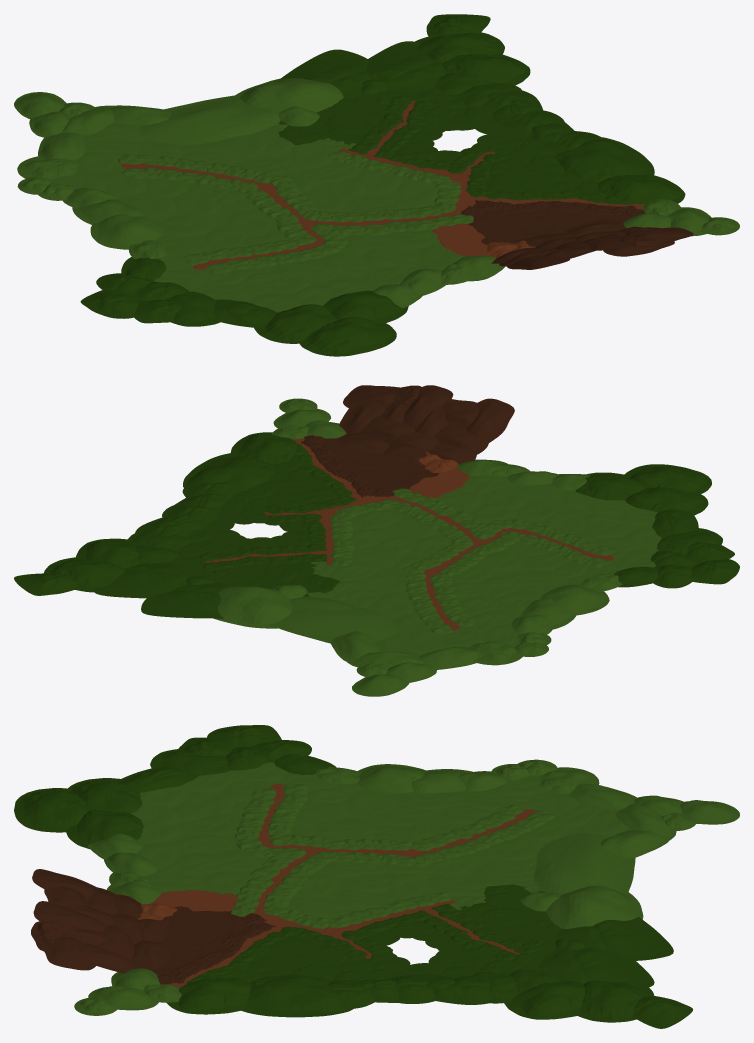
File: Ground.gltf
The picture shows the model from 3 angles, top to bottom: view 1: azimuth 30°, elevation 25°; view 2: azimuth 150°, elevation 25°; view 3: azimuth 270°, elevation 25°; orthographic projection. The views are drawn at different scales.
Visible parts, largest first — view 1: SM_GrassyLowHillB6, SM_DarkGrassyLowHillA9, SM_DarkGrassyLowHillB6, SM_DarkGrassyLowHillA3, SM_GrassyLowHillB5, SM_DarkGrassyLowHillB10, SM_DarkGrassyLowHillA2, SM_DarkGrassyLowHillA8, SM_DarkGrassyLowHillA5, SM_GrassyLowHillB12, SM_DarkGrassyLowHillA4, SM_DarkGrassyLowHillA (+73 smaller); view 2: SM_GrassyLowHillB6, SM_GrassyLowHillB5, SM_DarkGrassyLowHillB6, SM_DarkGrassyLowHillB10, SM_DarkGrassyLowHillA9, SM_DarkGrassyLowHillA3, SM_DarkGrassyLowHillA4, SM_DarkGrassyLowHillA2, SM_DarkGrassyLowHillA8, SM_DirtDarkMoundC, SM_DarkGrassyLowHillA, SM_DarkGrassyLowHillA5 (+77 smaller); view 3: SM_GrassyLowHillB6, SM_DarkGrassyLowHillA9, SM_DarkGrassyLowHillB6, SM_DarkGrassyLowHillB10, SM_GrassyLowHillB5, SM_DarkGrassyLowHillA3, SM_DarkGrassyLowHillA8, SM_DarkGrassyLowHillA5, SM_DarkGrassyLowHillA4, SM_DirtDarkMoundC, SM_DarkGrassyLowHillA, SM_DarkGrassyLowHillA2 (+89 smaller).
Part boxes in pixels (bbox=[...]): SM_GrassyLowHillB6: bbox=[139, 94, 280, 144]; SM_DarkGrassyLowHillA9: bbox=[555, 137, 654, 182]; SM_DarkGrassyLowHillB6: bbox=[366, 41, 446, 90]; SM_DarkGrassyLowHillA3: bbox=[299, 317, 396, 356]; SM_GrassyLowHillB5: bbox=[235, 78, 343, 112]; SM_DarkGrassyLowHillB10: bbox=[279, 49, 370, 98]; SM_DarkGrassyLowHillA2: bbox=[254, 304, 337, 343]; SM_DarkGrassyLowHillA8: bbox=[598, 174, 685, 204]; SM_DarkGrassyLowHillA5: bbox=[442, 54, 530, 85]; SM_GrassyLowHillB12: bbox=[90, 214, 161, 249]; SM_DarkGrassyLowHillA4: bbox=[414, 32, 504, 63]; SM_DarkGrassyLowHillA: bbox=[323, 290, 408, 323]; SM_GrassyLowHillB6: bbox=[269, 597, 397, 643]; SM_GrassyLowHillB5: bbox=[213, 586, 292, 628]; SM_DarkGrassyLowHillB6: bbox=[93, 562, 196, 598]; SM_DarkGrassyLowHillB10: bbox=[141, 582, 232, 618]; SM_DarkGrassyLowHillA9: bbox=[183, 453, 274, 490]; SM_DarkGrassyLowHillA3: bbox=[624, 464, 711, 494]; SM_DarkGrassyLowHillA4: bbox=[44, 557, 125, 592]; SM_DarkGrassyLowHillA2: bbox=[625, 487, 708, 515]; SM_DarkGrassyLowHillA8: bbox=[230, 432, 297, 464]; SM_DirtDarkMoundC: bbox=[354, 454, 423, 489]; SM_DarkGrassyLowHillA: bbox=[575, 472, 645, 500]; SM_DarkGrassyLowHillA5: bbox=[76, 538, 140, 568]; SM_GrassyLowHillB6: bbox=[533, 833, 635, 894]; SM_DarkGrassyLowHillA9: bbox=[241, 975, 353, 1017]; SM_DarkGrassyLowHillB6: bbox=[538, 947, 654, 988]; SM_DarkGrassyLowHillB10: bbox=[557, 916, 673, 960]; SM_GrassyLowHillB5: bbox=[545, 885, 643, 928]; SM_DarkGrassyLowHillA3: bbox=[14, 788, 90, 832]; SM_DarkGrassyLowHillA8: bbox=[166, 977, 251, 1014]; SM_DarkGrassyLowHillA5: bbox=[504, 980, 585, 1019]; SM_DarkGrassyLowHillA4: bbox=[577, 980, 654, 1022]; SM_DirtDarkMoundC: bbox=[164, 910, 243, 949]; SM_DarkGrassyLowHillA: bbox=[66, 810, 143, 849]; SM_DarkGrassyLowHillA2: bbox=[68, 778, 141, 813].
Bounding box in the file's own units: 285 × 16.74 × 288.
1 material, 1 textured.
